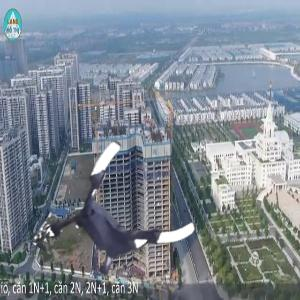drone: (57, 157, 191, 291)
